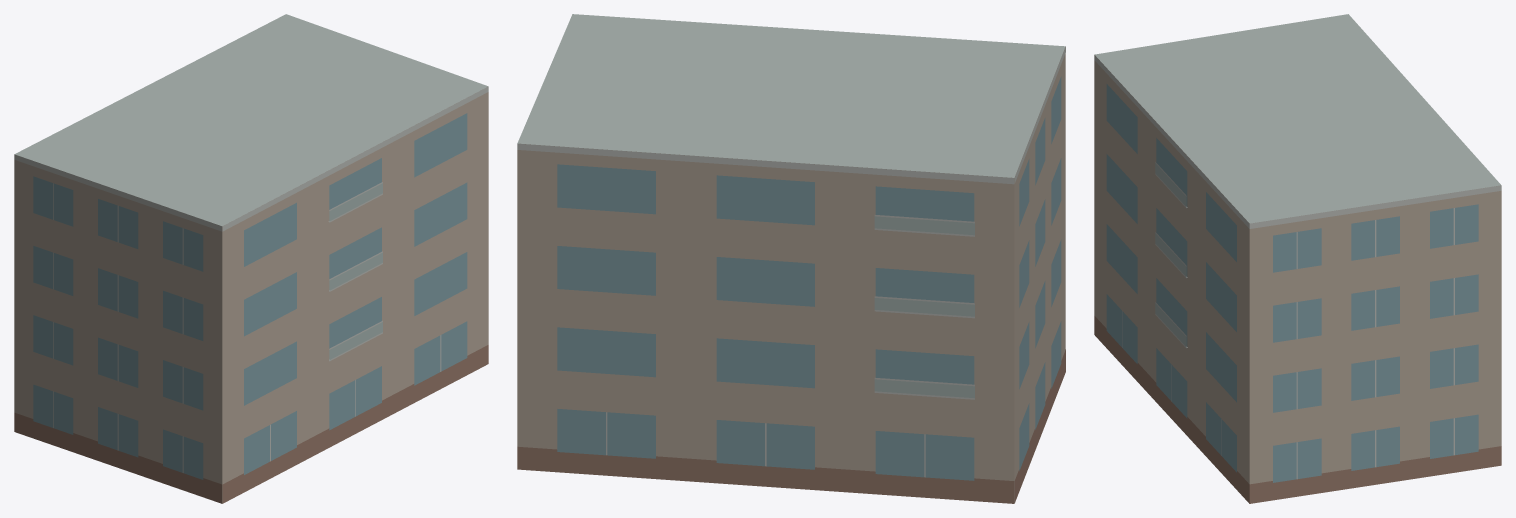
Rendered from survey-upis-32832961.glb.
3 views of the same model, side by side, from view 1: azimuth 30°, elevation 25°; view 2: azimuth 150°, elevation 25°; view 3: azimuth 270°, elevation 25° (orthographic). The views are drawn at different scales.
Parts seen in each view (by area): view 1: survey-upis-32832961.tmp; view 2: survey-upis-32832961.tmp; view 3: survey-upis-32832961.tmp.
Boxes of the visible parts, x1,y1,x2,y2 form: survey-upis-32832961.tmp: [14, 14, 488, 503]; survey-upis-32832961.tmp: [517, 14, 1065, 503]; survey-upis-32832961.tmp: [1094, 14, 1501, 503].
Bounding box in the file's own units: 20.06 × 12.5 × 16.47.
